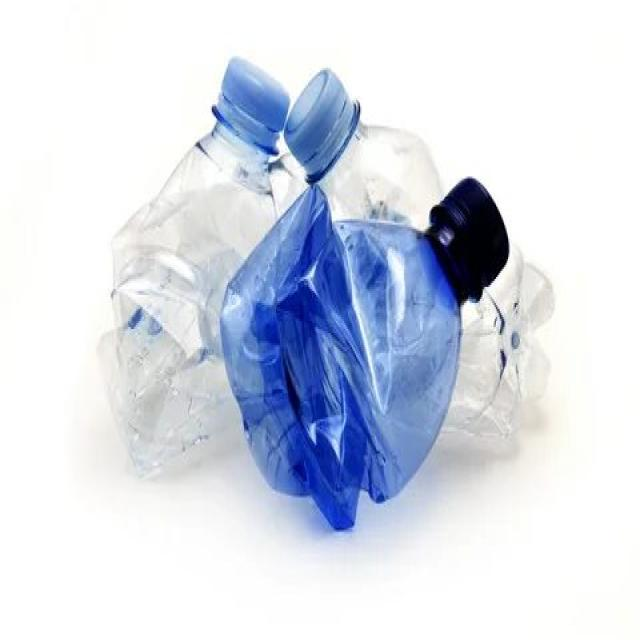blue: (222, 184, 460, 530)
